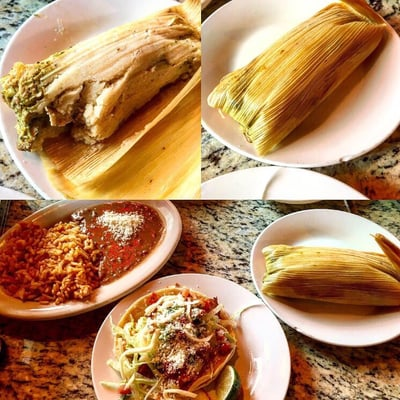sushi: (0, 200, 180, 322), (91, 284, 244, 400)
